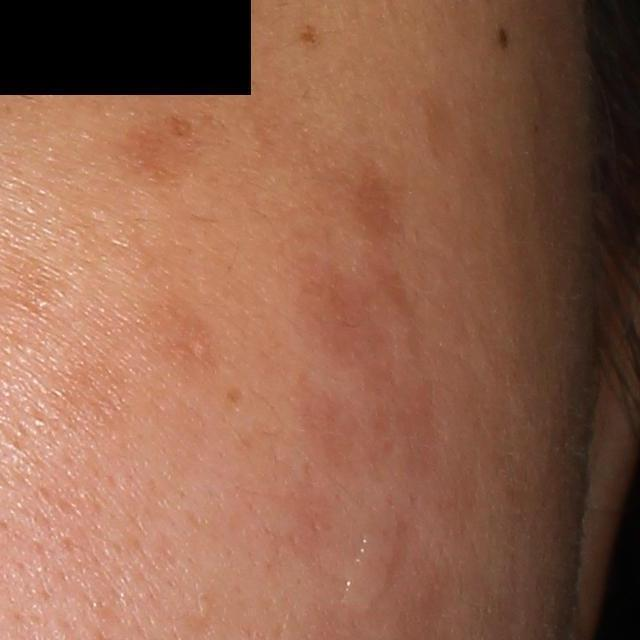melasma: (167, 112, 197, 139)
nevus: (496, 23, 509, 51)
